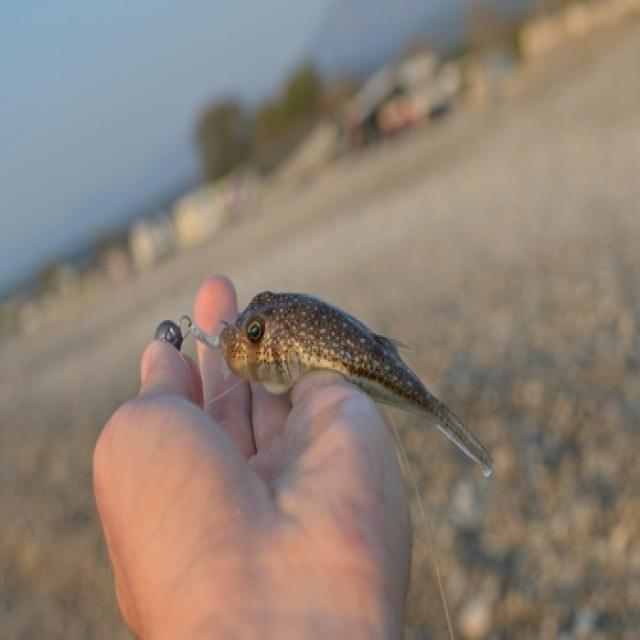Balik: (217, 292, 491, 477)
